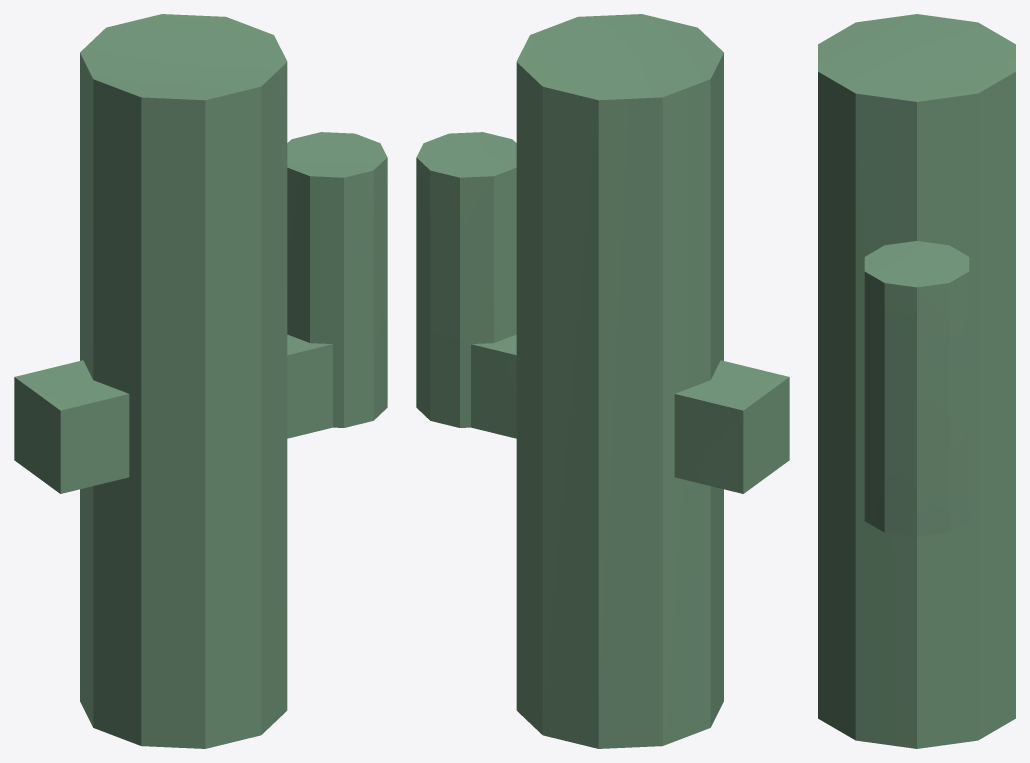
Rendered from cactus-05.glb.
3 renders of one model, left to right at view 1: azimuth 30°, elevation 25°; view 2: azimuth 150°, elevation 25°; view 3: azimuth 270°, elevation 25°, orthographic.
Visible parts, largest first — view 1: world; view 2: world; view 3: world.
Part boxes in pixels (x1=…): world: x1=14, y1=14, x2=387, y2=748; world: x1=416, y1=14, x2=789, y2=748; world: x1=818, y1=14, x2=1015, y2=748.
Bounding box in the file's own units: 0.645 × 1.17 × 0.3234.
